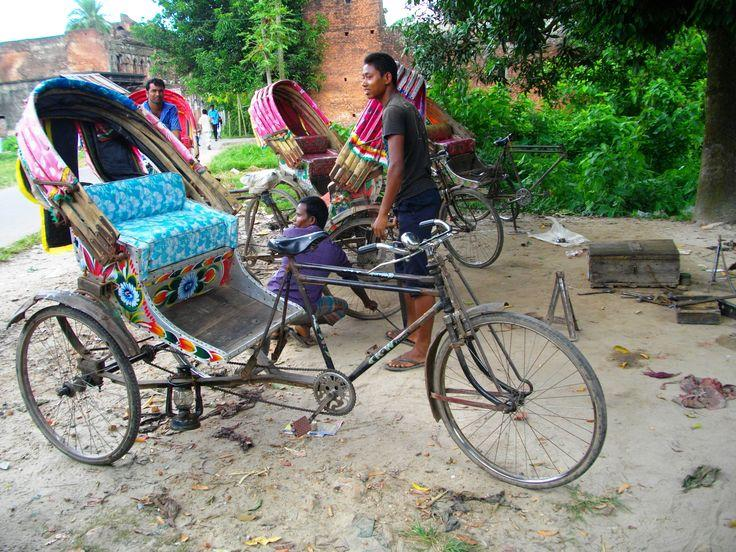Rickshaw: (9, 79, 605, 487), (427, 101, 565, 236), (249, 80, 341, 196), (431, 149, 502, 267), (330, 99, 387, 201), (164, 89, 197, 155), (397, 61, 425, 116)
